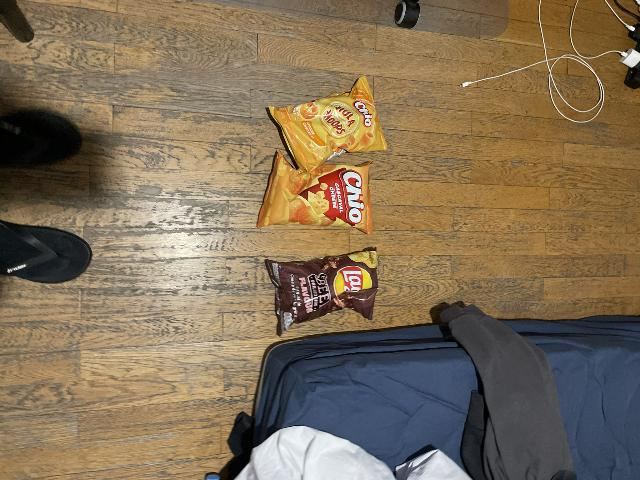Chio Cascaval 125g: (255, 151, 371, 232)
Chio Hula Hoops Cheese 70g: (266, 77, 387, 174)
Lays Beef Grilled Ribs 125g: (262, 249, 380, 331)
